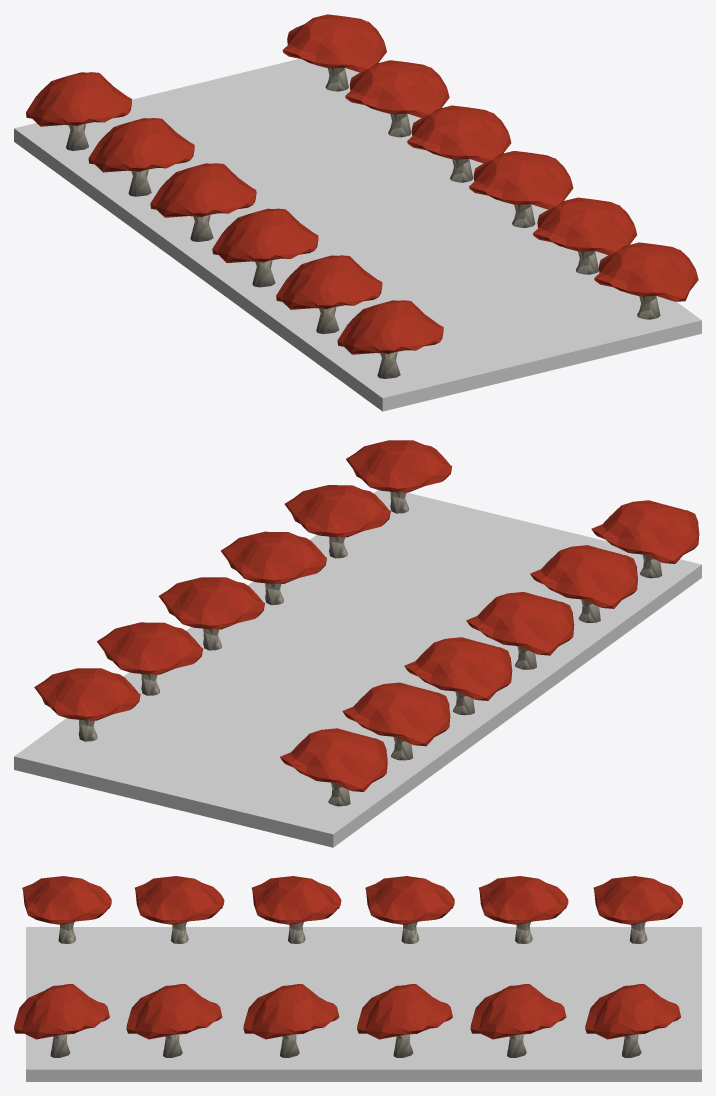
Rendered from abteil.fbx.
3 views of the same model, one above another, from view 1: azimuth 30°, elevation 25°; view 2: azimuth 150°, elevation 25°; view 3: azimuth 270°, elevation 25° (orthographic). The views are drawn at different scales.
Parts seen in each view (by area): view 1: pCube1, Mushroom3, Mushroom6, Mushroom12, Mushroom8, Mushroom10, Mushroom4, Mushroom5, Mushroom2, Mushroom9, Mushroom13, Mushroom7 (+1 smaller); view 2: pCube1, Mushroom7, Mushroom13, Mushroom11, Mushroom9, Mushroom5, Mushroom2, Mushroom8, Mushroom10, Mushroom3, Mushroom12, Mushroom4 (+1 smaller); view 3: pCube1, Mushroom4, Mushroom6, Mushroom3, Mushroom8, Mushroom10, Mushroom12, Mushroom11, Mushroom7, Mushroom9, Mushroom2, Mushroom5 (+1 smaller).
Part boxes in pixels (x1,y1,x2,y2): pCube1: (14, 58, 701, 411); Mushroom3: (594, 242, 698, 319); Mushroom6: (469, 151, 573, 227); Mushroom12: (282, 14, 386, 91); Mushroom8: (407, 105, 511, 182); Mushroom10: (345, 60, 449, 137); Mushroom4: (533, 197, 636, 274); Mushroom5: (276, 255, 382, 333); Mushroom2: (337, 300, 443, 378); Mushroom9: (150, 163, 256, 241); Mushroom13: (26, 72, 131, 150); Mushroom7: (212, 208, 318, 287); pCube1: (14, 490, 701, 847); Mushroom7: (466, 592, 574, 669); Mushroom13: (280, 728, 387, 806); Mushroom11: (342, 682, 450, 760); Mushroom9: (404, 637, 512, 715); Mushroom5: (530, 545, 637, 622); Mushroom2: (591, 500, 699, 578); Mushroom8: (158, 577, 264, 650); Mushroom10: (97, 622, 203, 695); Mushroom3: (346, 440, 452, 513); Mushroom12: (34, 668, 140, 741); Mushroom4: (284, 485, 390, 558); pCube1: (26, 927, 701, 1081); Mushroom4: (126, 984, 222, 1057); Mushroom6: (243, 984, 339, 1057); Mushroom3: (14, 984, 109, 1057); Mushroom8: (357, 984, 452, 1057); Mushroom10: (470, 984, 566, 1057); Mushroom12: (585, 984, 681, 1057); Mushroom11: (479, 876, 568, 943); Mushroom7: (251, 876, 341, 943); Mushroom9: (365, 876, 454, 943); Mushroom2: (22, 876, 111, 943); Mushroom5: (135, 876, 224, 943).
Bounding box in the file's own units: 53.44 × 12.25 × 102.
